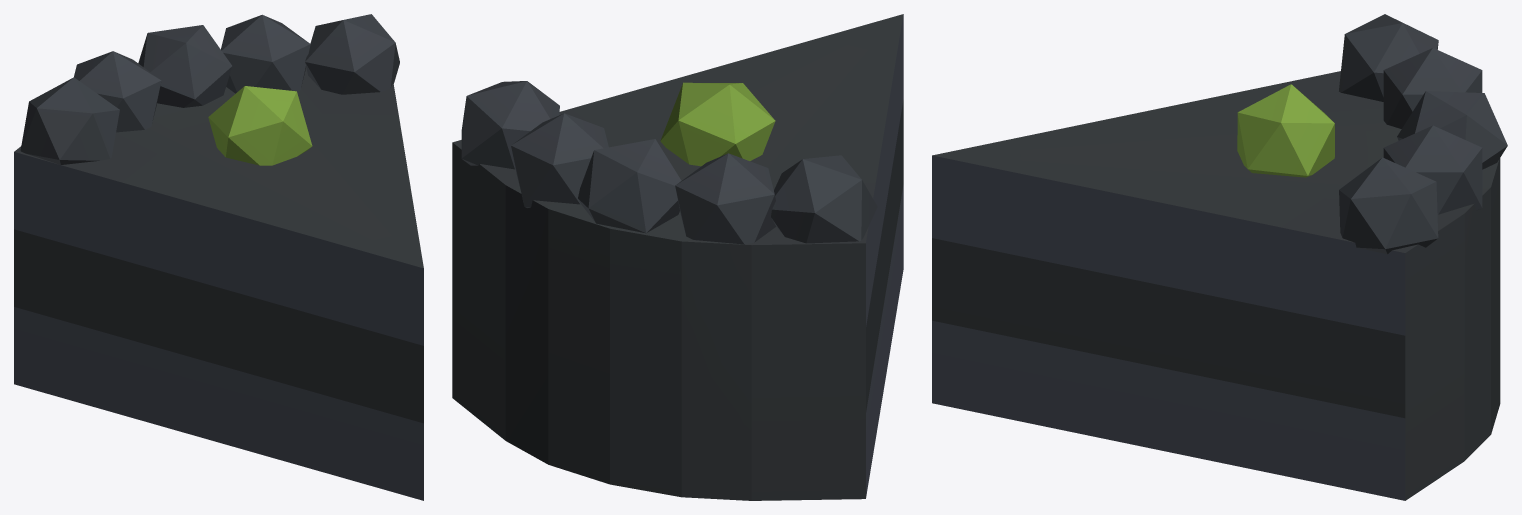
File: Food_05.fbx
The picture shows the model from 3 angles, left to right: view 1: azimuth 30°, elevation 25°; view 2: azimuth 150°, elevation 25°; view 3: azimuth 270°, elevation 25°; orthographic projection. The views are drawn at different scales.
Visible parts, largest first — view 1: Food_05; view 2: Food_05; view 3: Food_05.
Boxes of the visible parts, left/top/right/bottom form: Food_05: left=14, top=14, right=423, bottom=500; Food_05: left=452, top=14, right=903, bottom=500; Food_05: left=932, top=14, right=1507, bottom=500.
Size of the model in its own units: 0.1601 by 0.1204 by 0.1988.
